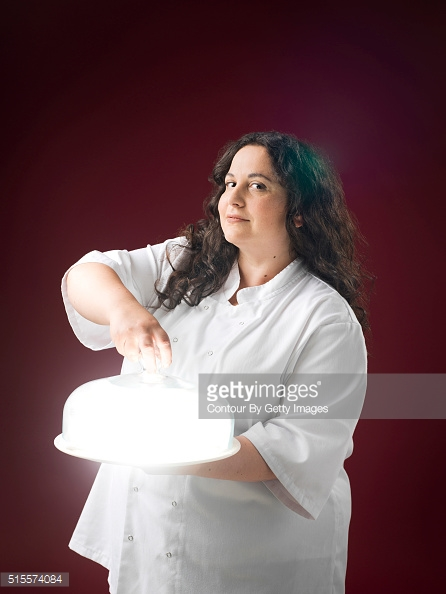em pe: (22, 113, 363, 593)
